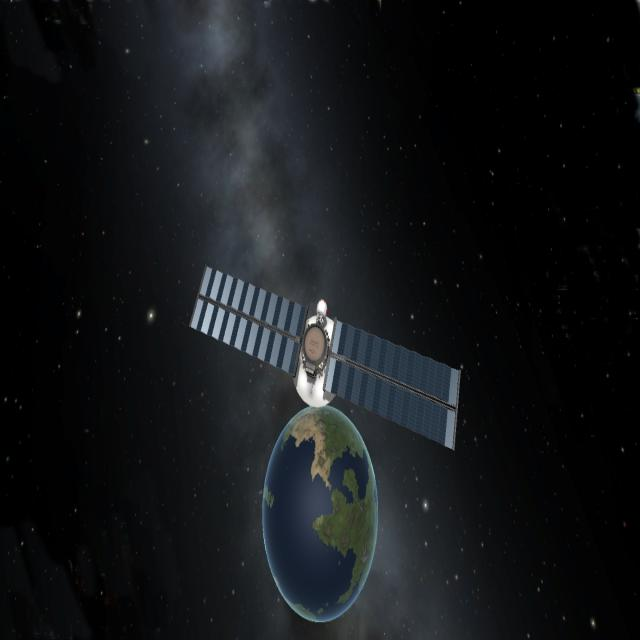medium_debris: (178, 228, 463, 632)
